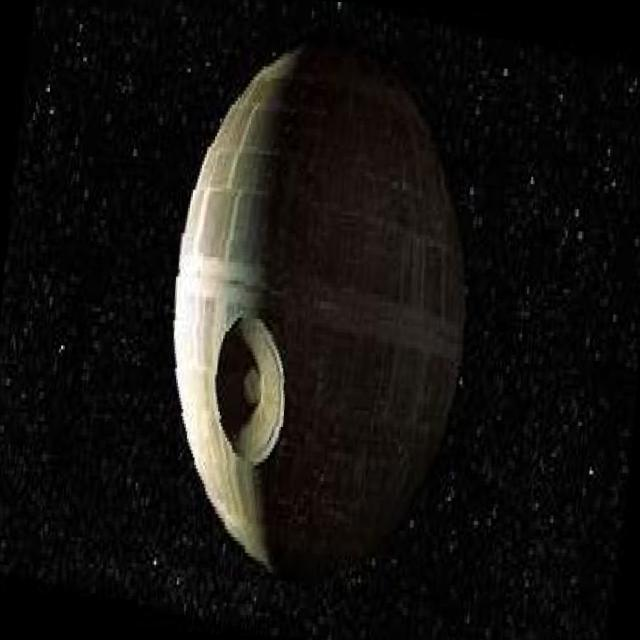Death Star: (147, 20, 490, 602)
